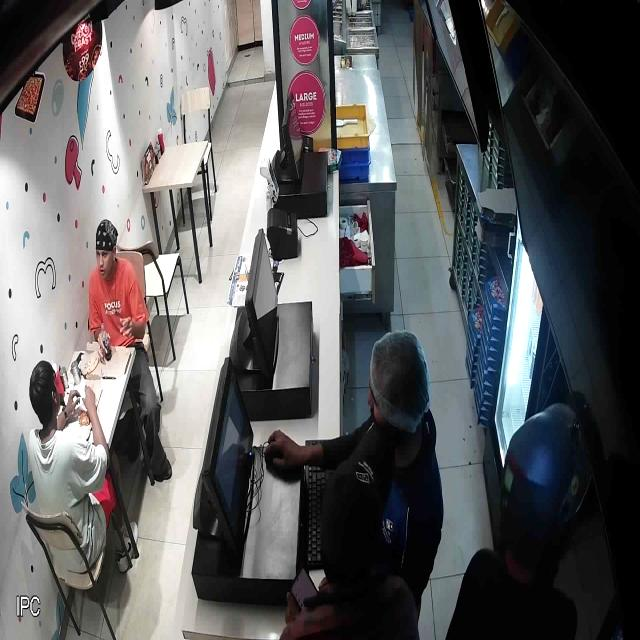helmet: (495, 397, 590, 587)
no_helmet: (318, 429, 395, 585), (368, 330, 430, 437), (29, 360, 60, 434), (95, 219, 118, 281)
